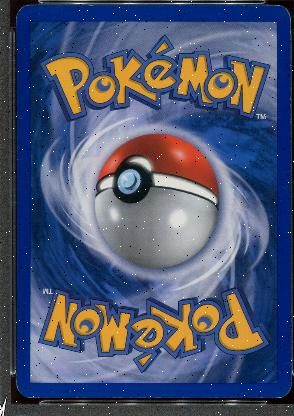Card: (14, 4, 291, 402)
Corner Wear: (15, 376, 39, 400), (267, 3, 290, 24), (15, 4, 33, 26), (272, 382, 290, 398)
Edge Wear: (40, 396, 280, 398), (288, 26, 291, 146), (14, 96, 17, 190), (288, 254, 291, 344)
Scratch: (58, 239, 105, 274), (280, 184, 289, 194), (280, 360, 288, 366)
